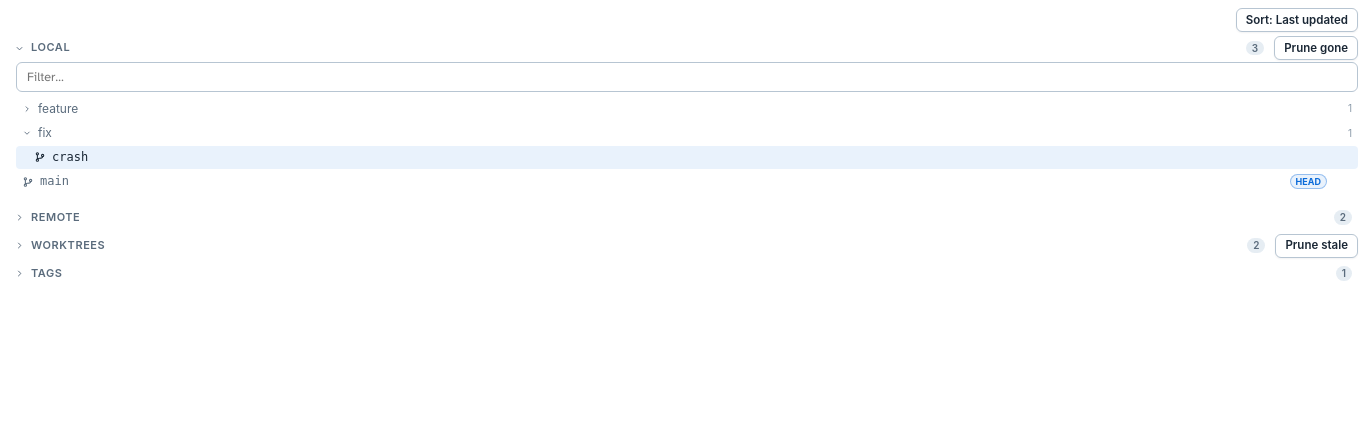
Test: RepoSidebar sections › groups refs into collapsed folders by slash, opening remotes and active branches
This screenshot has width=1366, height=439.
Click the button "Remote 2".
click(56, 217)  # box x1=8 y1=206 x2=1358 y2=230
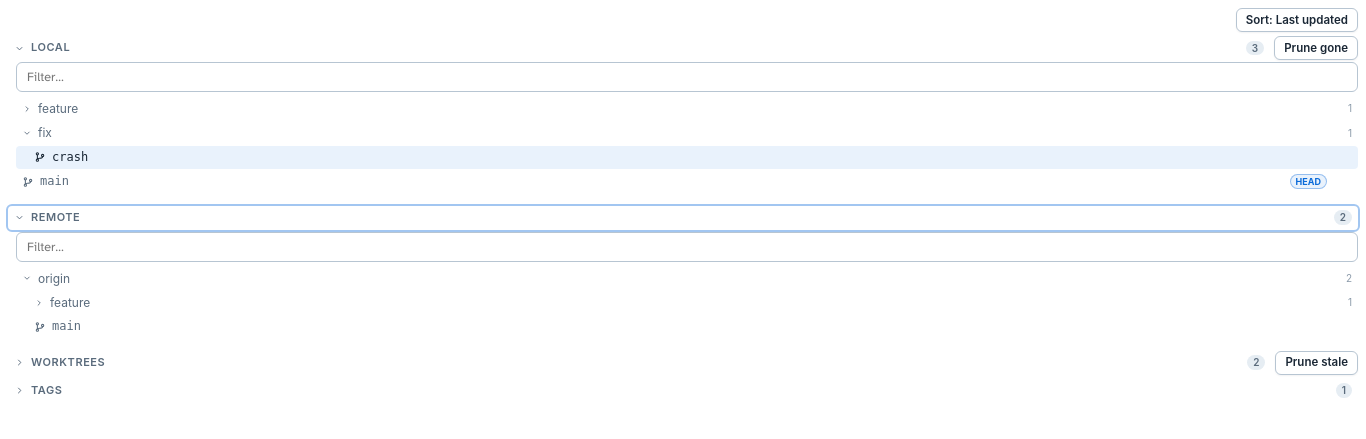
Check: the button with aria-label "Jump to fix/crash" is shown, box x1=16 y1=146 x2=1333 y2=169
Check: the button with aria-label "Jump to origin/main" is shown, box x1=16 y1=315 x2=1333 y2=339
Click the 1st button titled "feature".
click(58, 108)  # box x1=16 y1=97 x2=1358 y2=120
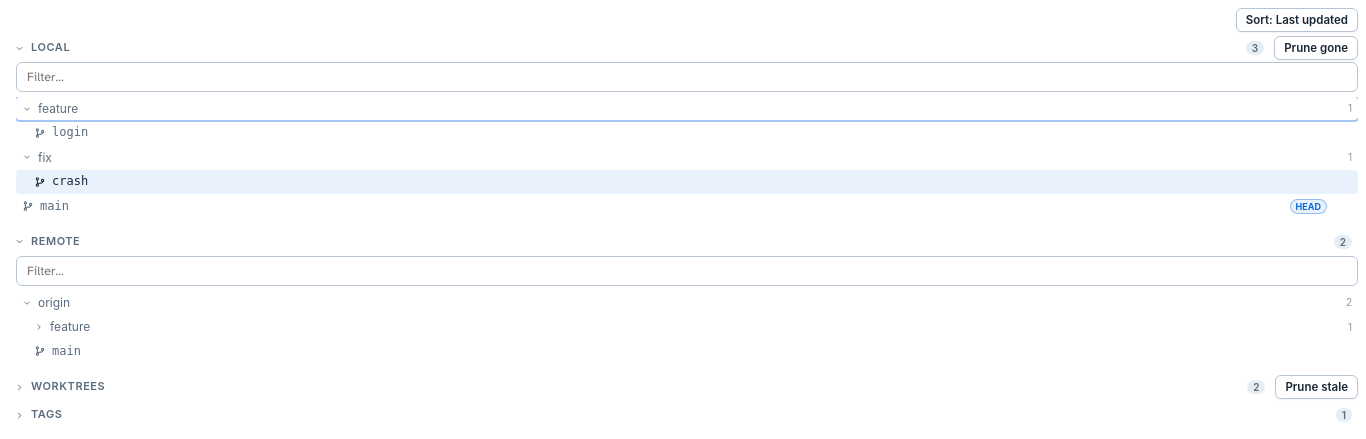
Check: the button with aria-label "Jump to feature/login" reads "login", box x1=16 y1=121 x2=1333 y2=145
